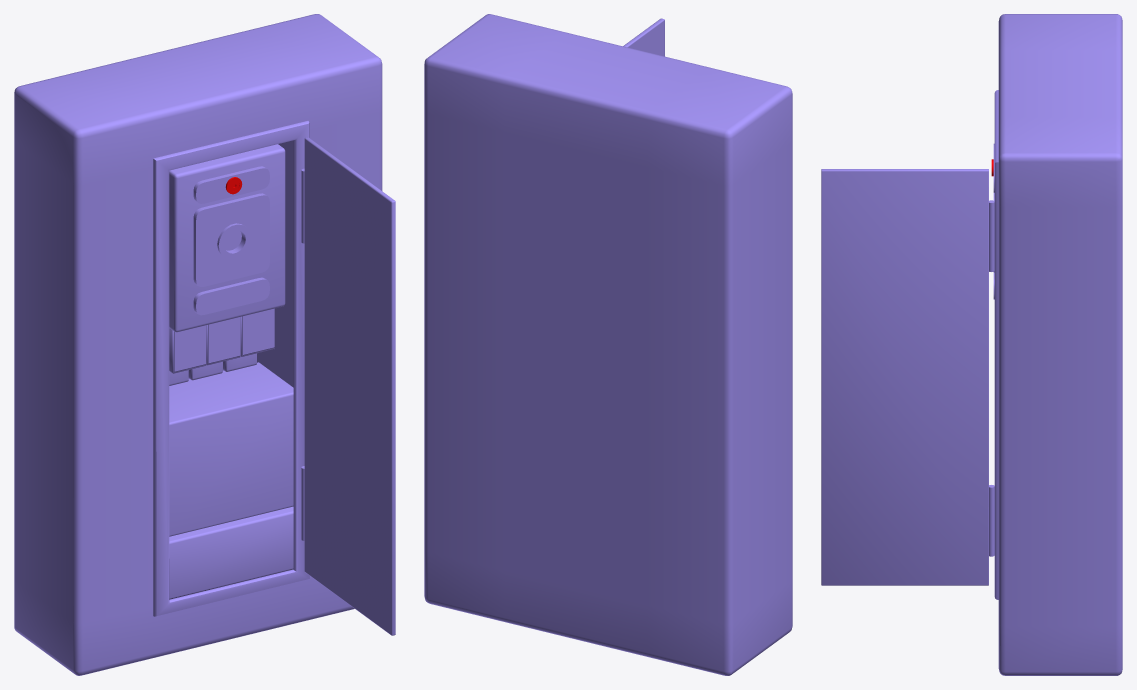
File: Chess Fusebox - Model.FBX
3 views of the same model, side by side, from view 1: azimuth 30°, elevation 25°; view 2: azimuth 150°, elevation 25°; view 3: azimuth 270°, elevation 25° (orthographic). The views are drawn at different scales.
Parts seen in each view (by area): view 1: Chess_Fusebox, Chess_Fusebox_Door; view 2: Chess_Fusebox, Chess_Fusebox_Door; view 3: Chess_Fusebox, Chess_Fusebox_Door.
Part boxes in pixels (left/top/right/bottom): Chess_Fusebox: left=14, top=14, right=382, bottom=675; Chess_Fusebox_Door: left=301, top=137, right=395, bottom=635; Chess_Fusebox: left=424, top=14, right=792, bottom=675; Chess_Fusebox_Door: left=623, top=18, right=664, bottom=56; Chess_Fusebox: left=993, top=14, right=1122, bottom=675; Chess_Fusebox_Door: left=821, top=169, right=994, bottom=585.
Size of the model in its own units: 0.3773 by 0.6394 by 0.3346.
